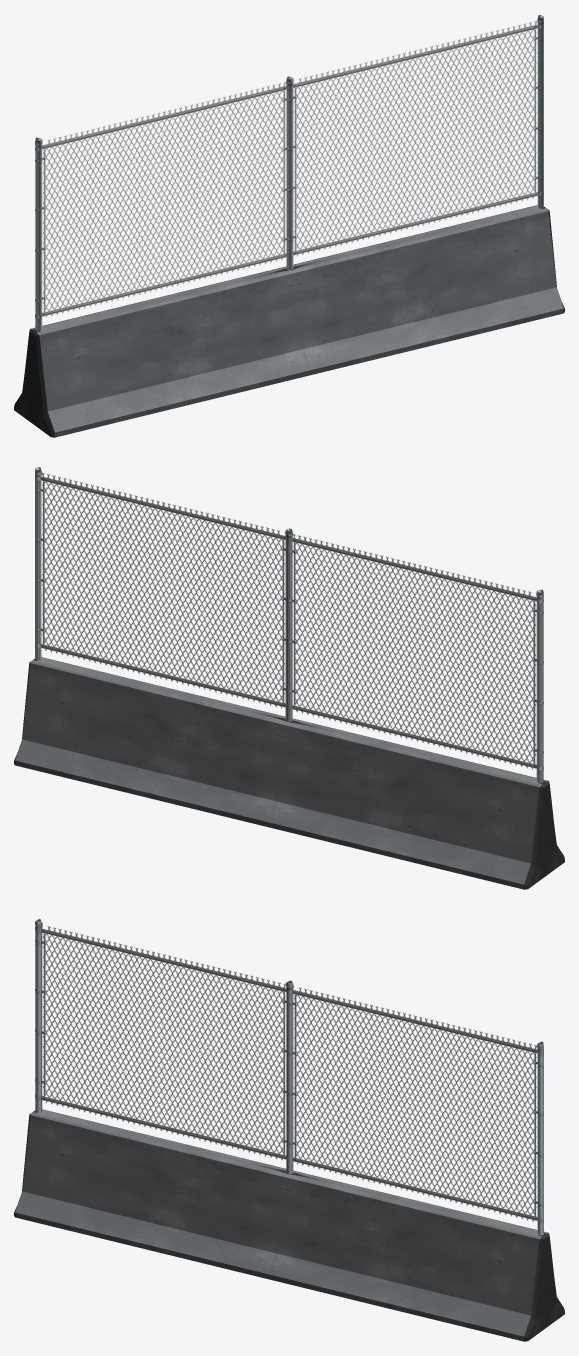
The model's file is barrier.glb.
3 views of the same model, one above another, from view 1: azimuth 30°, elevation 25°; view 2: azimuth 150°, elevation 25°; view 3: azimuth 330°, elevation 25° (orthographic).
Visible parts, largest first — view 1: jersey-barrier-concrete.001_Baked_1, jersey-barrier-fence_0; view 2: jersey-barrier-concrete.001_Baked_1, jersey-barrier-fence_0; view 3: jersey-barrier-concrete.001_Baked_1, jersey-barrier-fence_0.
Boxes of the visible parts, x1,y1,x2,y2 form: jersey-barrier-concrete.001_Baked_1: [14, 205, 564, 437]; jersey-barrier-fence_0: [35, 15, 543, 331]; jersey-barrier-concrete.001_Baked_1: [14, 657, 564, 889]; jersey-barrier-fence_0: [35, 467, 543, 783]; jersey-barrier-concrete.001_Baked_1: [14, 1109, 564, 1341]; jersey-barrier-fence_0: [35, 919, 543, 1235].
Size of the model in its own units: 7.29 by 3.85 by 0.9768.
2 materials, 2 textured.
